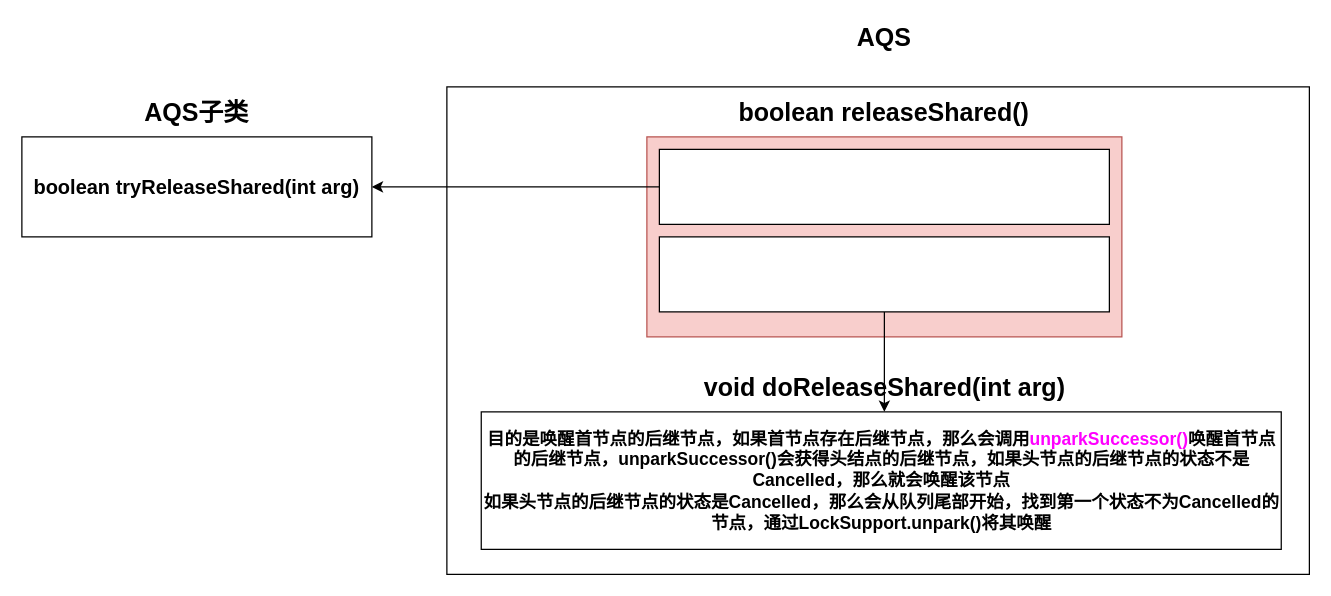
The diagram is 1331 pixels wide and 596 high, and some of its shapes have lost their labels. Each missing label, with the centre of its shape:
"如果释放成功，调用doReleaseShared()" goes at (x=883, y=274).
"调用 tryReleaseShared(arg)(由子类实现) 尝试释放共享锁 如果释放失败，返回false" goes at (x=883, y=186).
